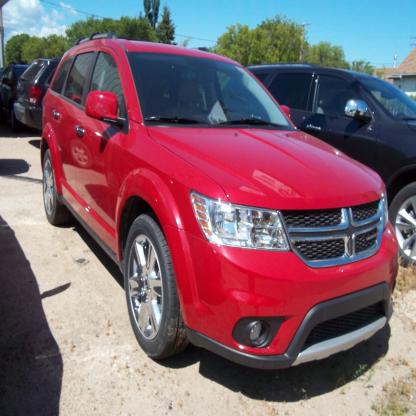Vehicle: (39, 38, 398, 370)
